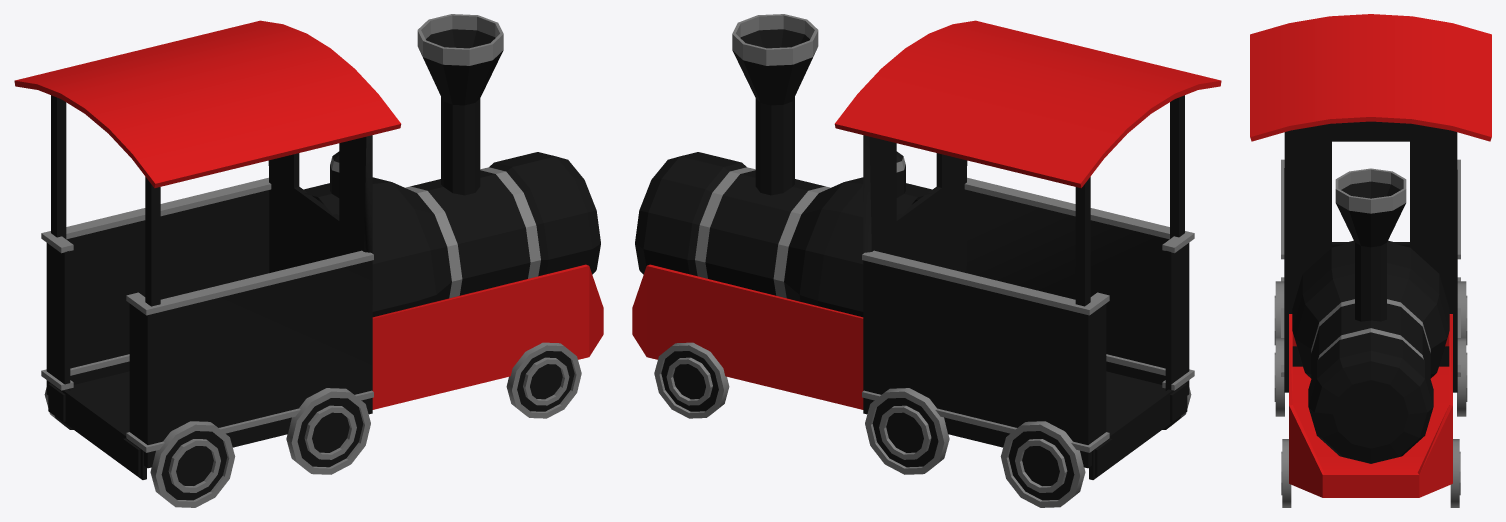
File: SM_locomotive_carousel.fbx
3 renders of one model, left to right at view 1: azimuth 30°, elevation 25°; view 2: azimuth 150°, elevation 25°; view 3: azimuth 270°, elevation 25°, orthographic. The views are drawn at different scales.
Parts seen in each view (by area): view 1: Box103; view 2: Box103; view 3: Box103.
Boxes of the visible parts, x1,y1,x2,y2 form: Box103: [14, 14, 603, 507]; Box103: [632, 14, 1221, 507]; Box103: [1250, 14, 1491, 507].
Bounding box in the file's own units: 101 × 73.33 × 50.32.
